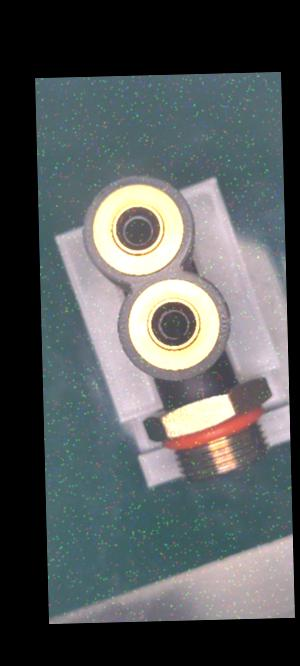white mark: (200, 390, 208, 398)
